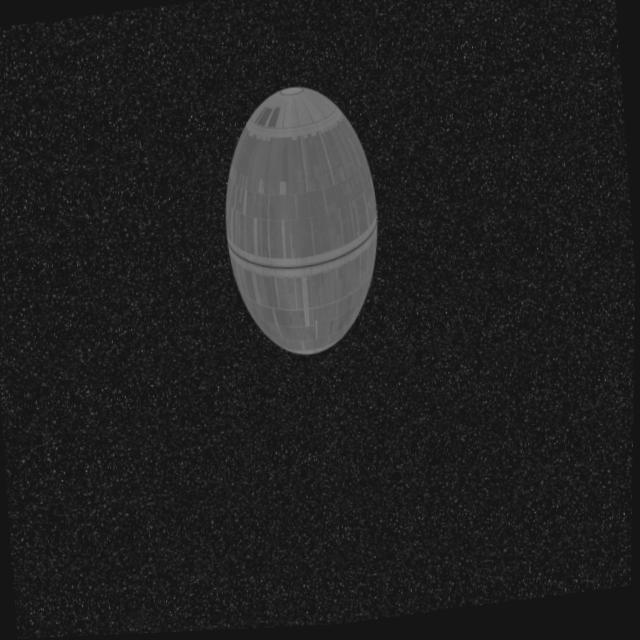death-stars: (226, 89, 379, 359)
